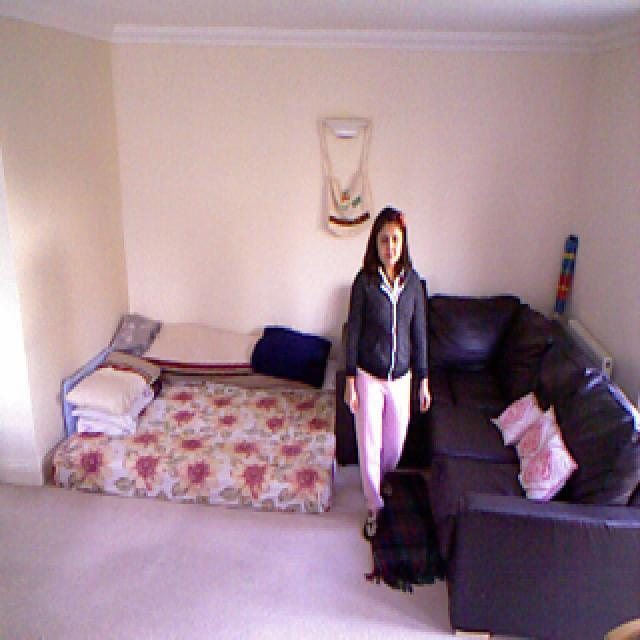walking: (336, 195, 438, 539)
